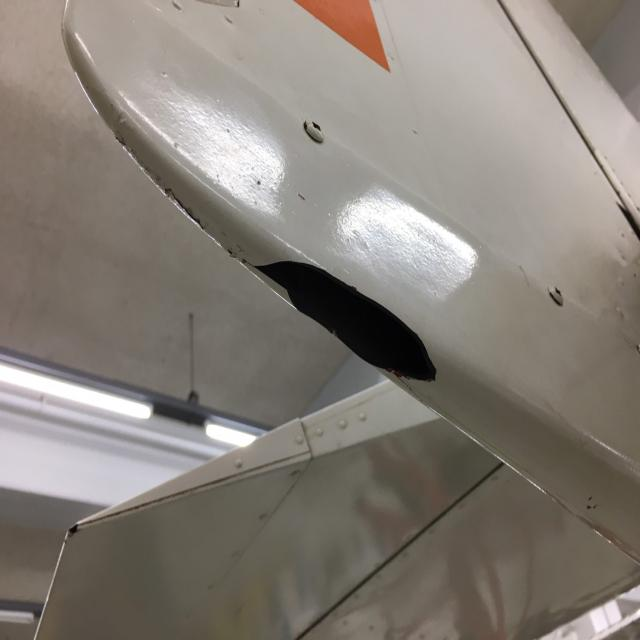Rupture: (242, 221, 456, 391)
